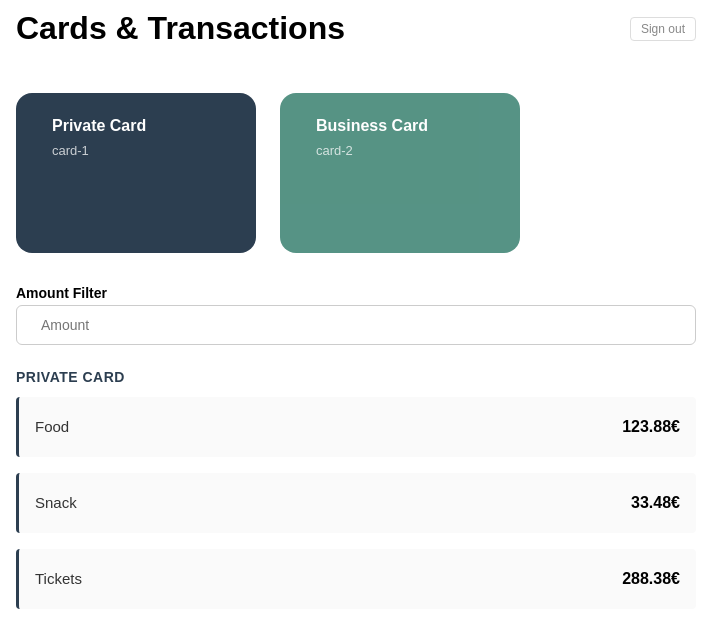
Test: resets filter when switching to another card
The image size is (713, 626).
Type "100" into the number field labelled "Amount Filter" at (356, 325), box [16,305,696,345]
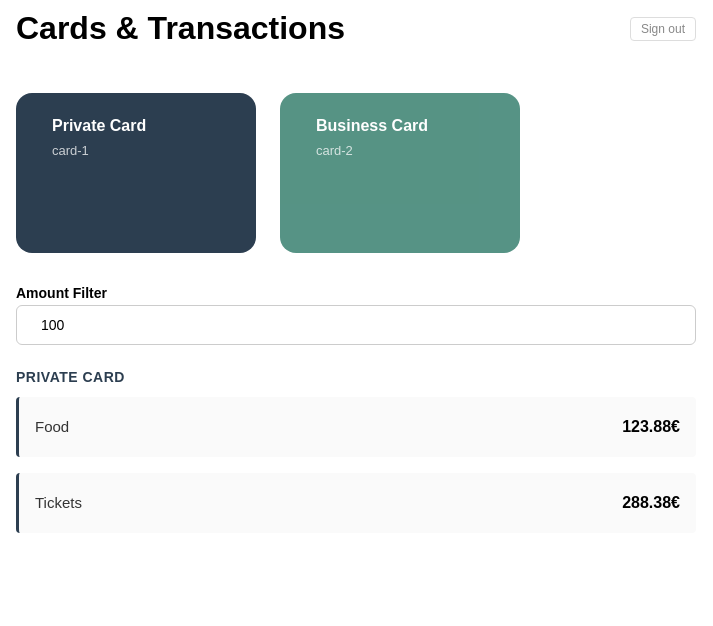
Expected: the text "Snack" is gone
Click the button "Business Card card-2" at (400, 173), box [280,93,520,253]
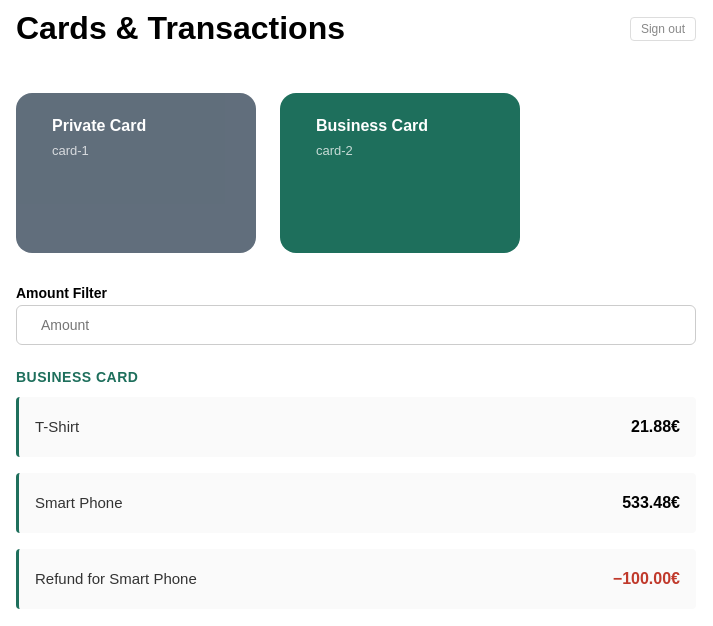
Click the button "Private Card card-1" at (136, 173), box [16,93,256,253]
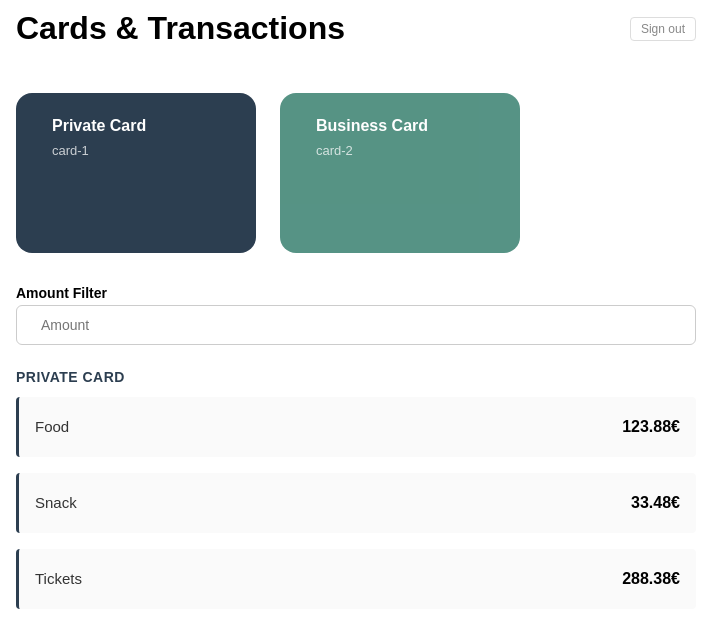
Expected: the text "Snack" is shown, [35,494,77,511]
